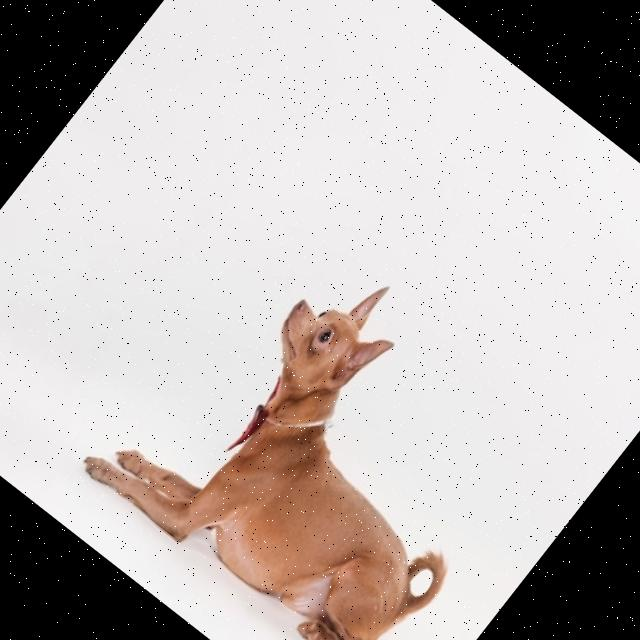Dog: (78, 201, 569, 640)
